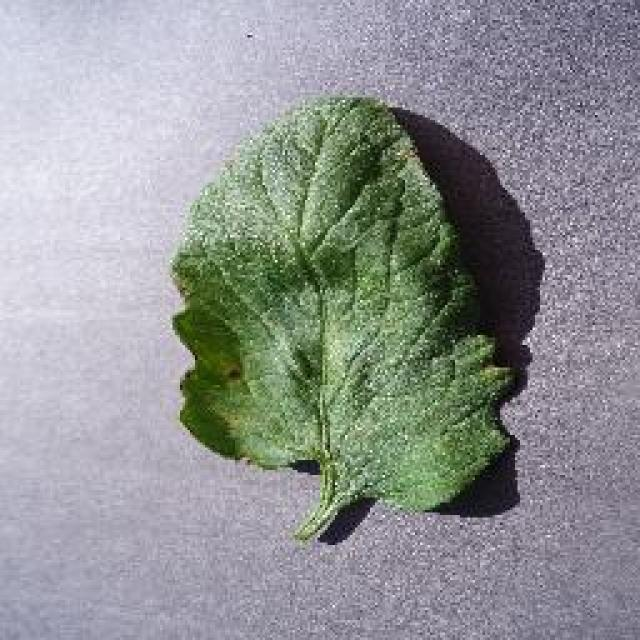Tom_Target_Spot: (178, 323, 288, 458)
